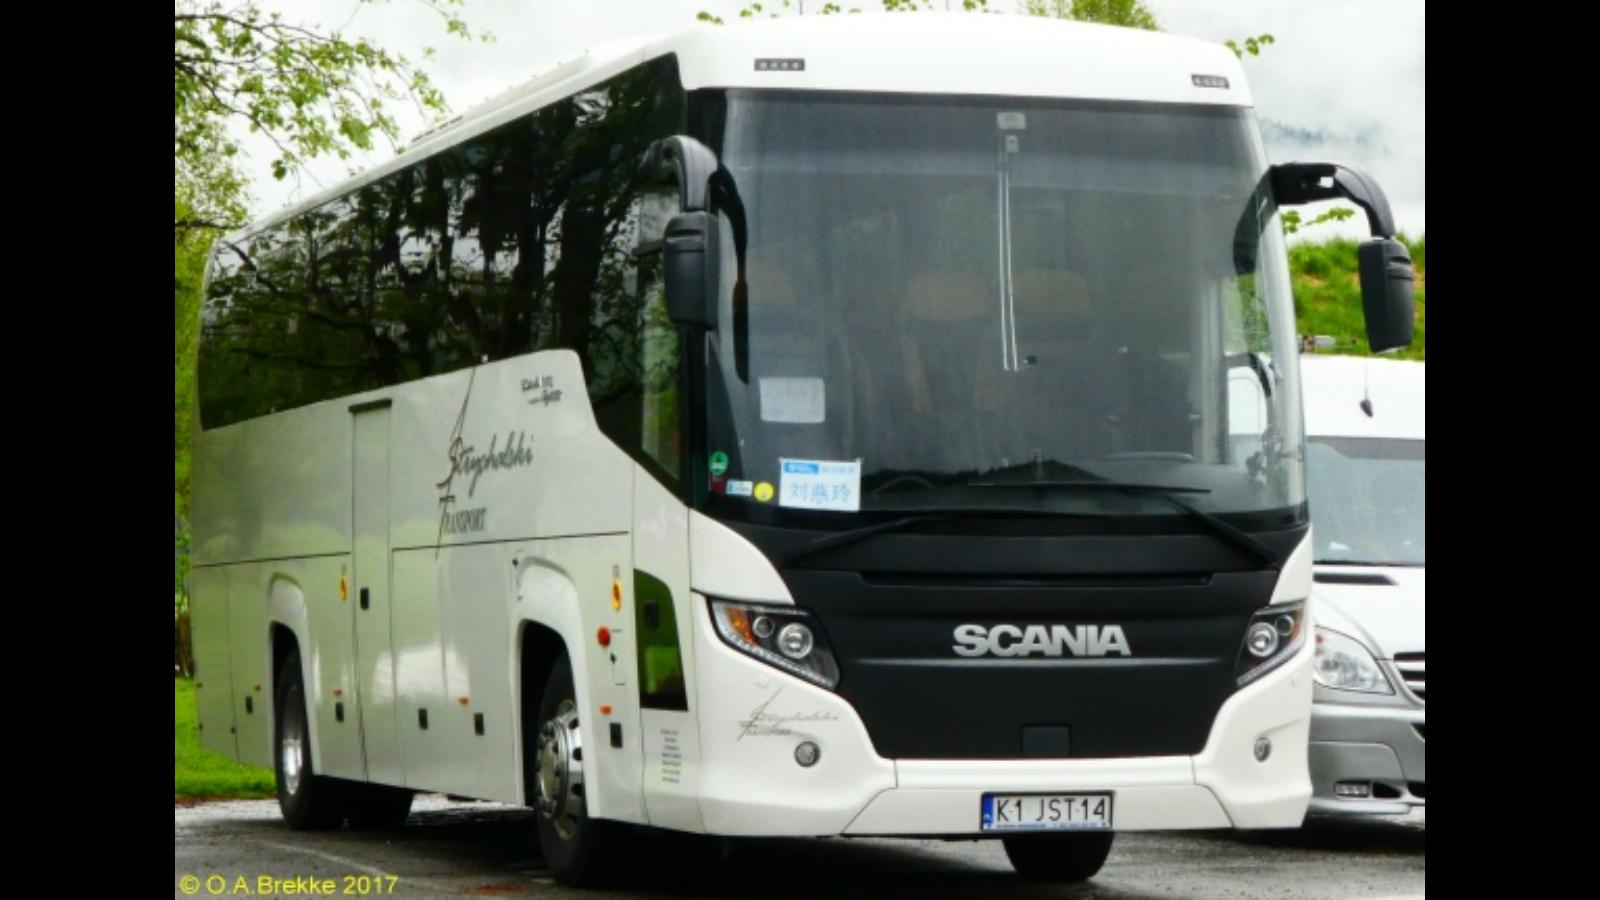plates: (980, 792, 1112, 830)
